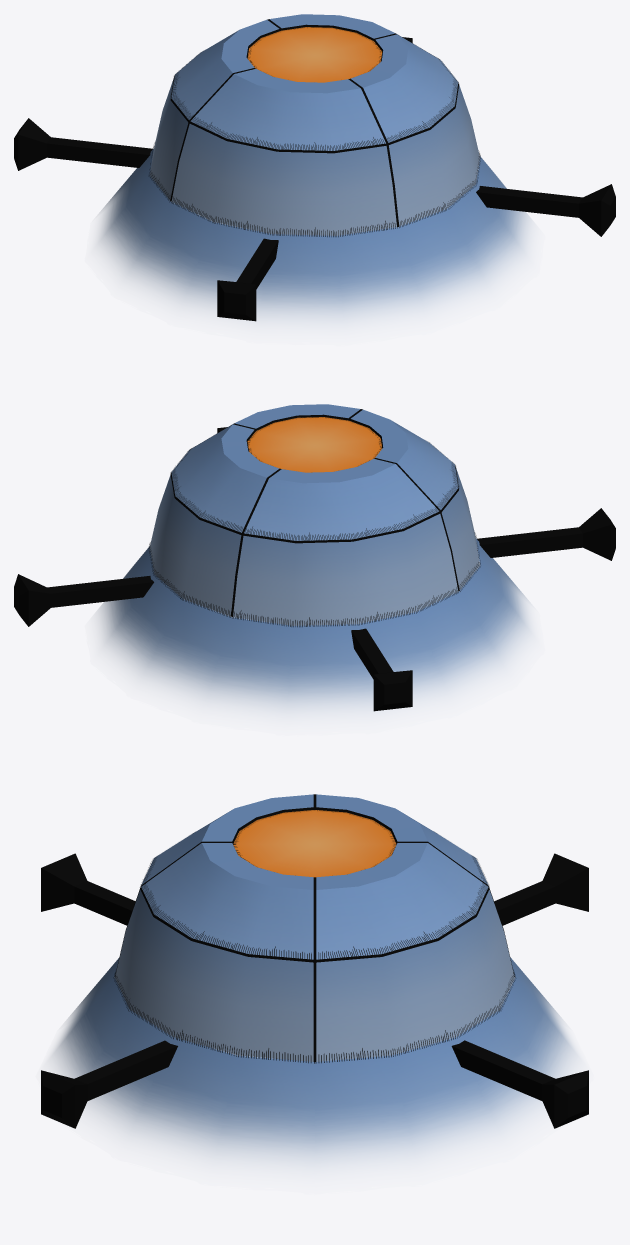
Rendered from SciFi_Drone.glb.
3 views of the same model, one above another, from view 1: azimuth 30°, elevation 25°; view 2: azimuth 150°, elevation 25°; view 3: azimuth 270°, elevation 25° (orthographic). The views are drawn at different scales.
Parts seen in each view (by area): view 1: SciFi_Drone; view 2: SciFi_Drone; view 3: SciFi_Drone.
Boxes of the visible parts, x1,y1,x2,y2 form: SciFi_Drone: (14, 14, 615, 323); SciFi_Drone: (14, 404, 615, 713); SciFi_Drone: (41, 794, 588, 1167).
Size of the model in its own units: 1.77 by 0.8461 by 1.77.
2 materials, 2 textured.
